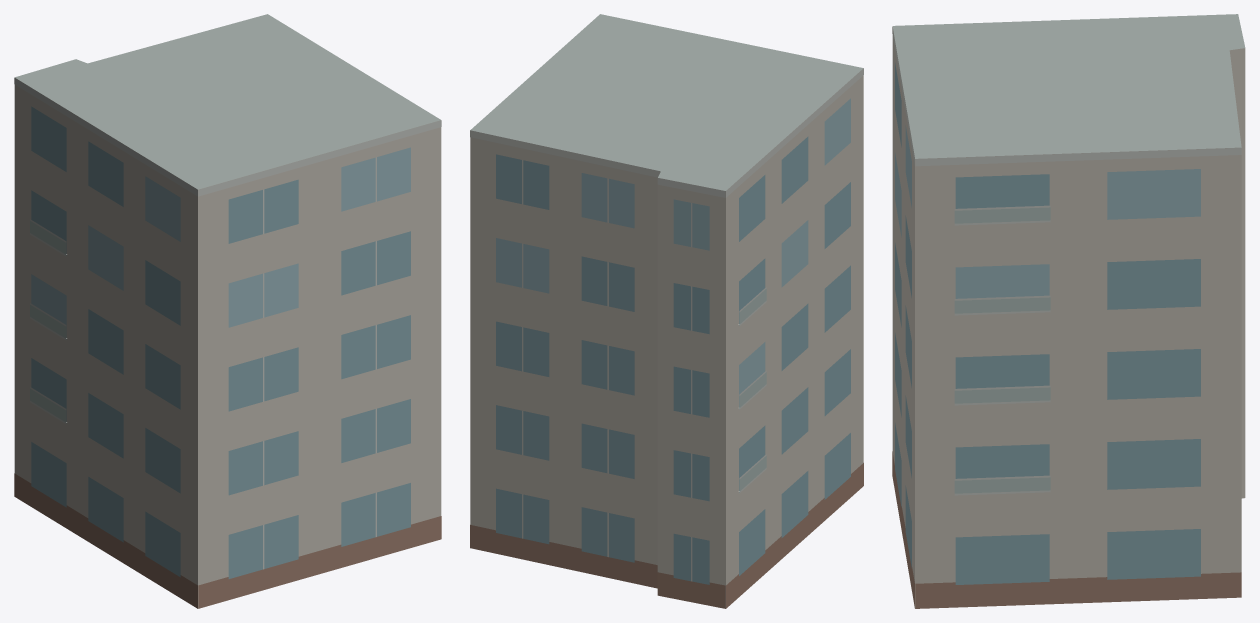
File: survey-upis-32511529.glb
3 renders of one model, left to right at view 1: azimuth 30°, elevation 25°; view 2: azimuth 150°, elevation 25°; view 3: azimuth 270°, elevation 25°, orthographic. The views are drawn at different scales.
Visible parts, largest first — view 1: survey-upis-32511529.tmp; view 2: survey-upis-32511529.tmp; view 3: survey-upis-32511529.tmp.
Part boxes in pixels (<box>): survey-upis-32511529.tmp: <box>14,14,441,608</box>; survey-upis-32511529.tmp: <box>470,14,863,608</box>; survey-upis-32511529.tmp: <box>892,14,1245,608</box>.
Bounding box in the file's own units: 10.16 × 14.7 × 10.46.
